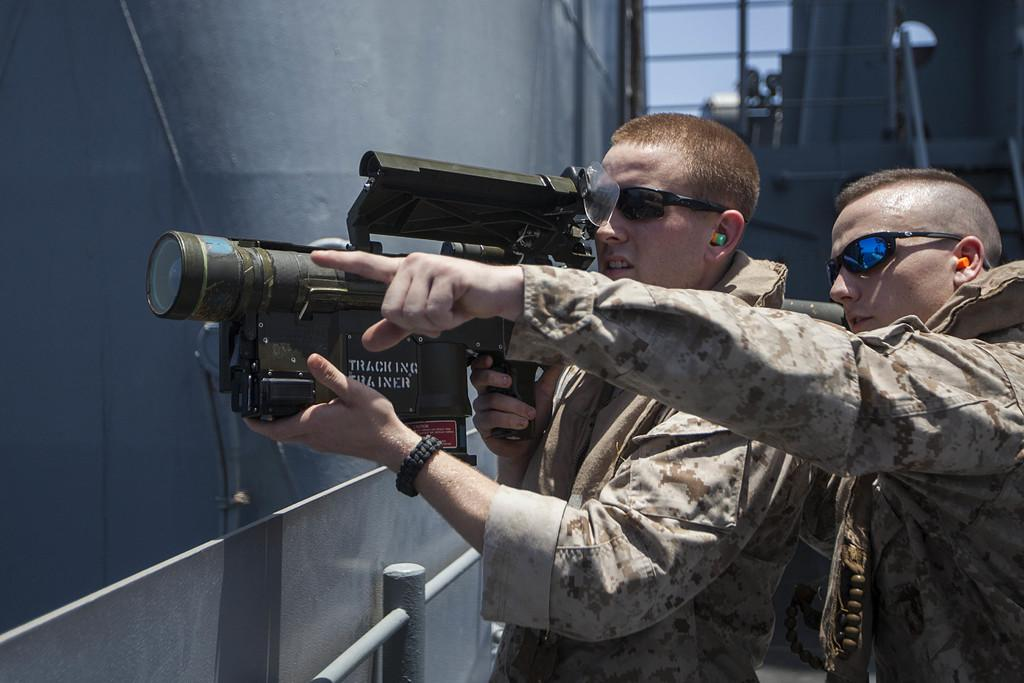Rifle: (145, 149, 621, 472)
